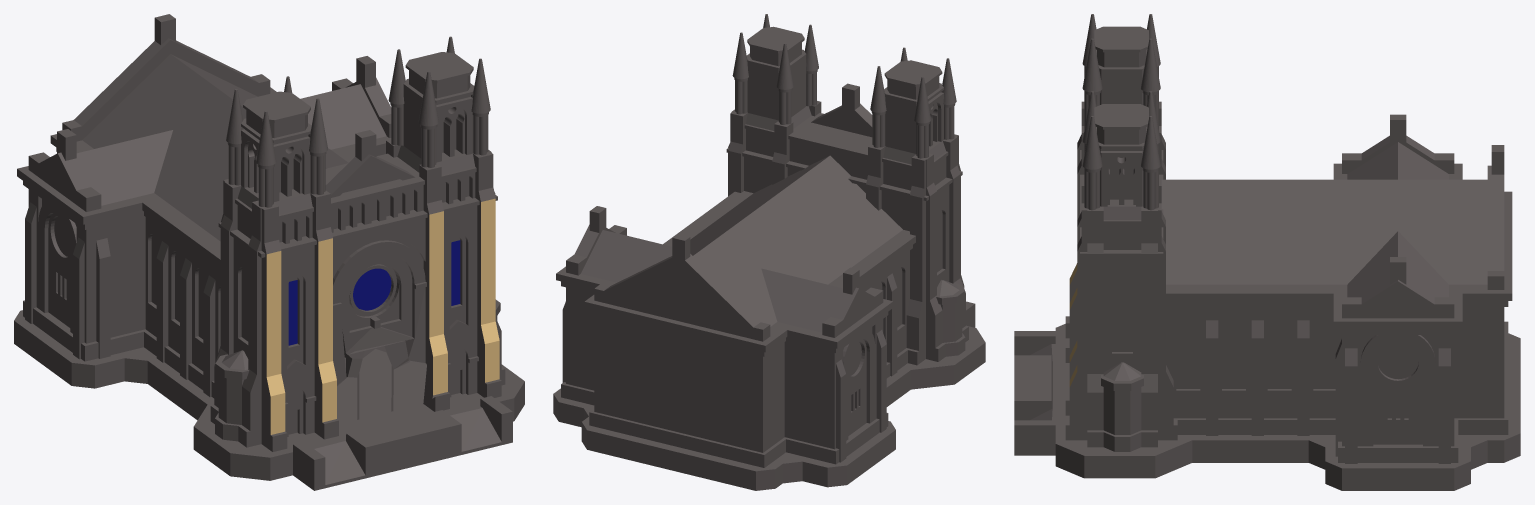
File: Cathedral.glb
3 renders of one model, left to right at view 1: azimuth 30°, elevation 25°; view 2: azimuth 150°, elevation 25°; view 3: azimuth 270°, elevation 25°, orthographic. The views are drawn at different scales.
Visible parts, largest first — view 1: 1, 4, 3, 2; view 2: 1; view 3: 1.
Part boxes in pixels (box(x1,y1,x2,y2)): 1: box(14, 14, 524, 490); 4: box(266, 198, 499, 434); 3: box(288, 240, 460, 345); 2: box(353, 268, 391, 310); 1: box(553, 14, 985, 490); 1: box(1014, 14, 1520, 490).
Bounding box in the file's own units: 47 × 45.5 × 60.93.
